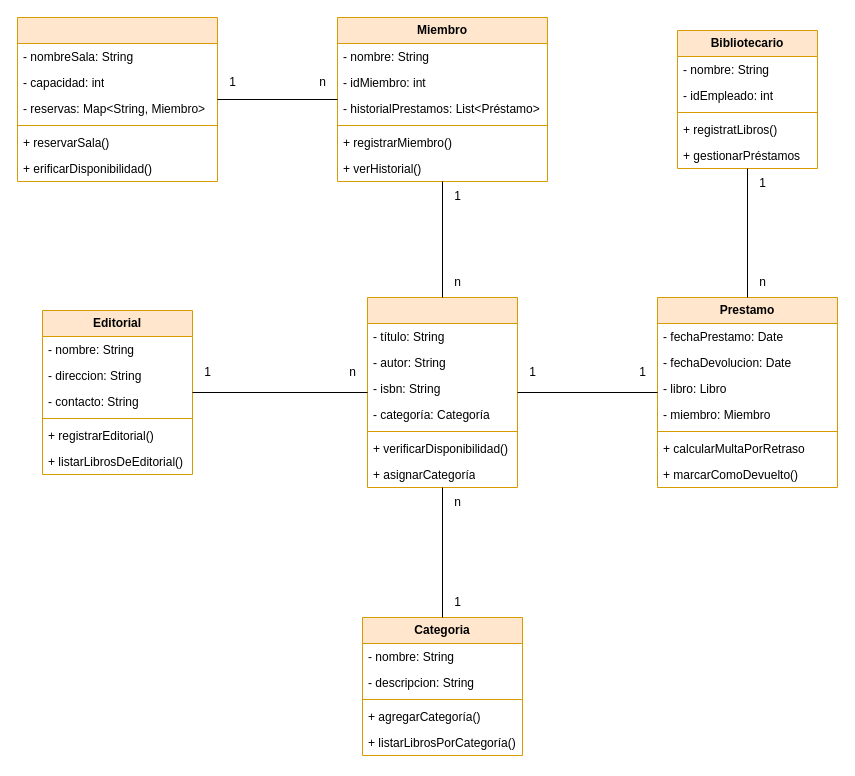
This 855x776 diagram has some shape labels left out. Here are the shapes that lost their labels. From the top down, the box of each, then its label:
(16, 16, 218, 182): Sala de lectura
(366, 296, 518, 488): Libro
